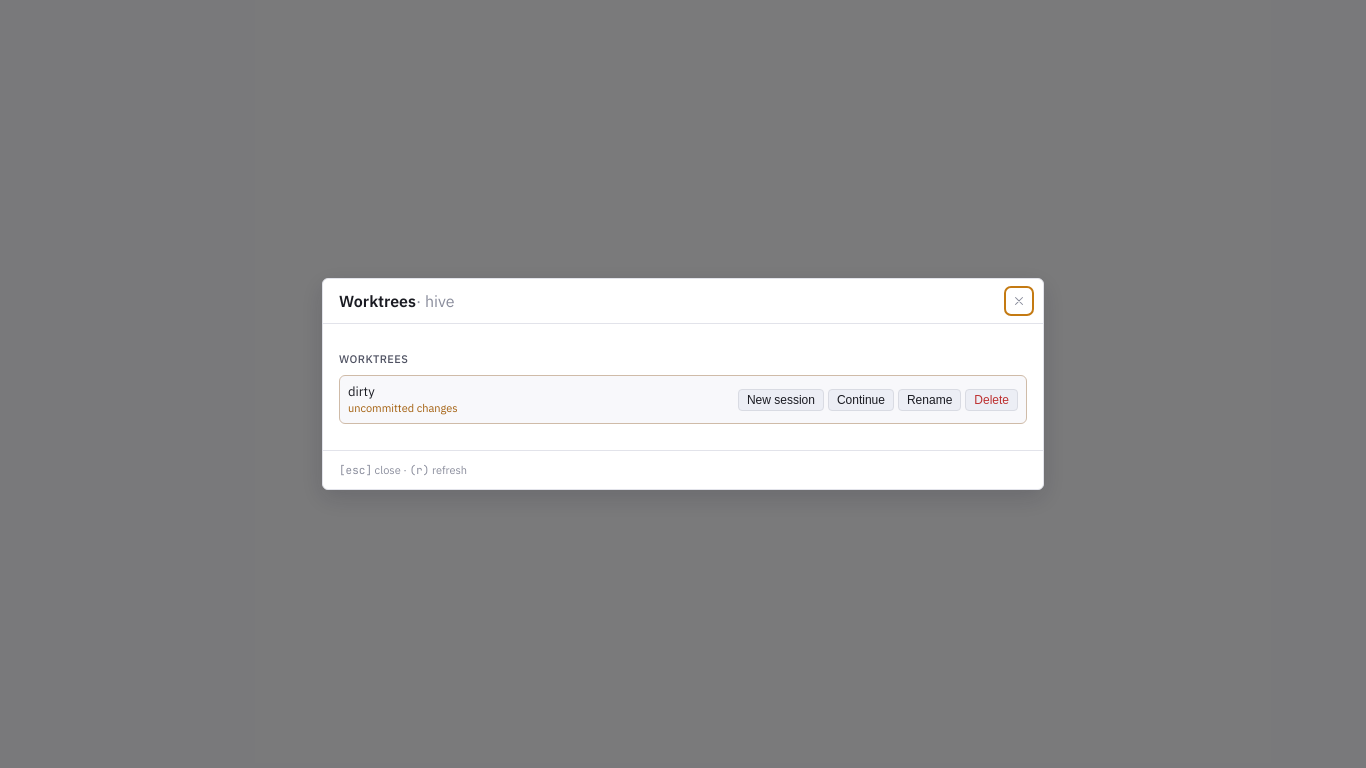
it: deleting › does not promise recoverability when uncommitted work will die
This screenshot has width=1366, height=768.
Step 1. Click the button "Delete" → click(992, 400), box [965, 389, 1018, 411]
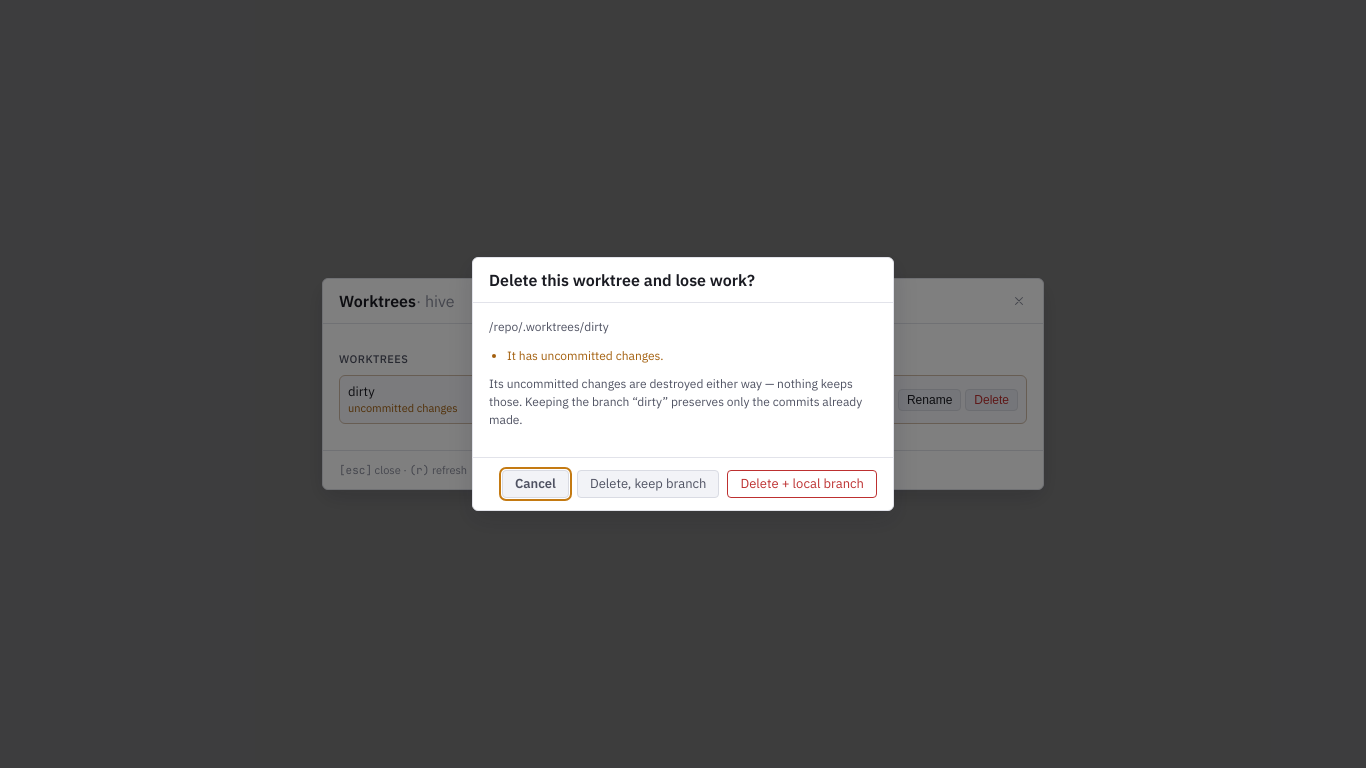
Now the text "destroyed either way" is shown, box [489, 376, 862, 427]
